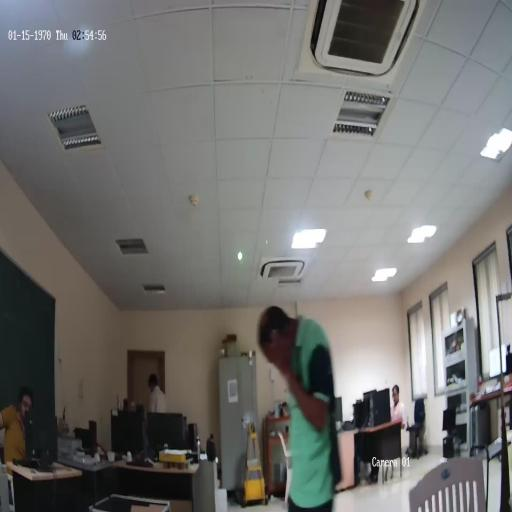laser: (236, 250, 242, 262)
